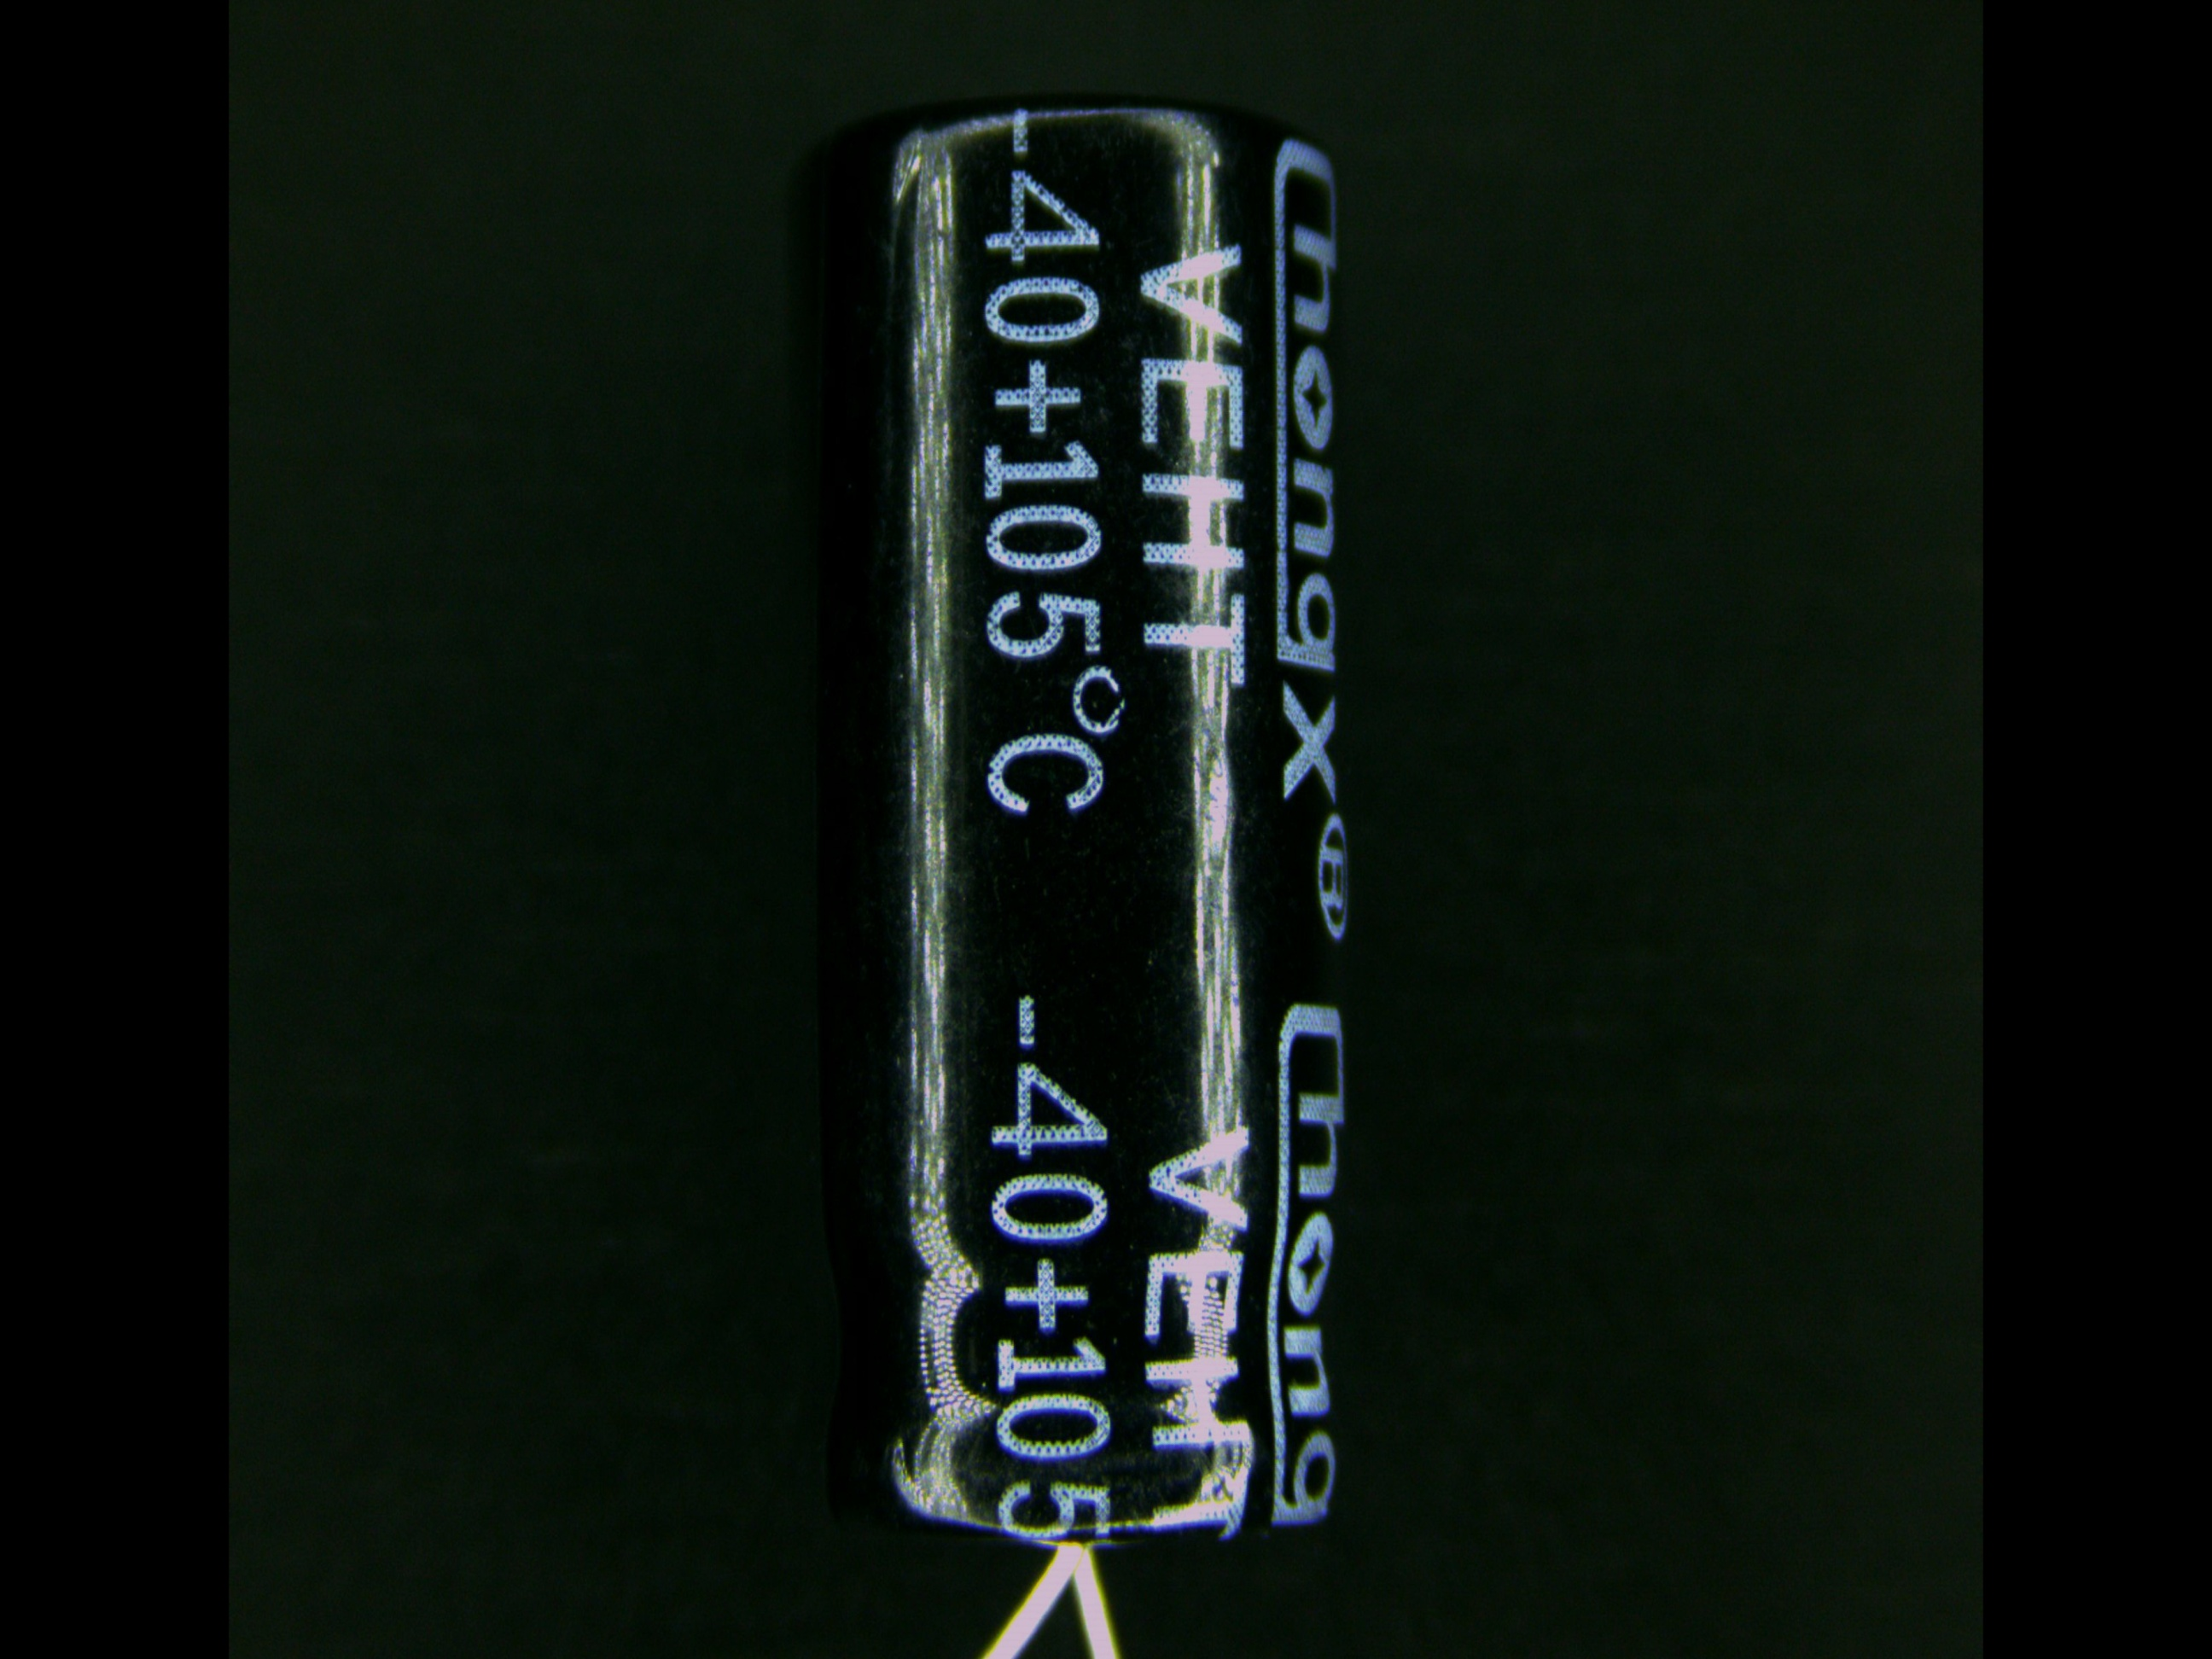c3: (792, 91, 1364, 1622)
